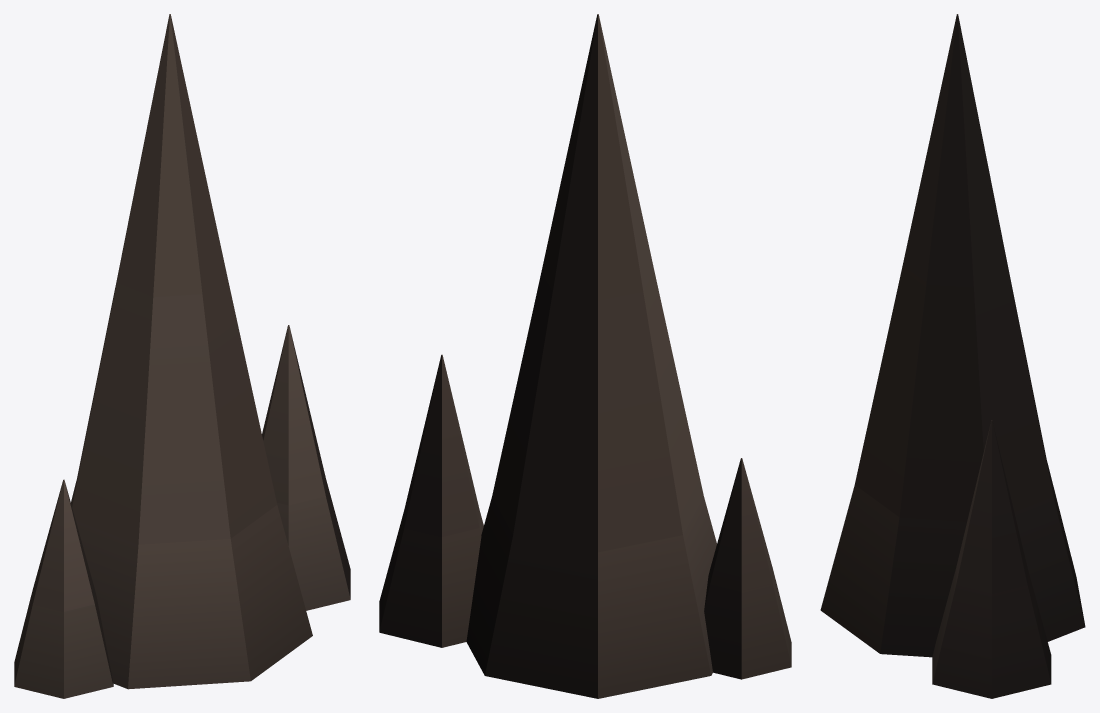
Rendered from stalagmite_a.glb.
3 views of the same model, side by side, from view 1: azimuth 30°, elevation 25°; view 2: azimuth 150°, elevation 25°; view 3: azimuth 270°, elevation 25° (orthographic). The views are drawn at different scales.
Parts seen in each view (by area): view 1: stalagmite_a; view 2: stalagmite_a; view 3: stalagmite_a.
Part boxes in pixels (<box>): stalagmite_a: <box>14,14,350,698</box>; stalagmite_a: <box>379,14,791,698</box>; stalagmite_a: <box>820,14,1085,698</box>.
Bounding box in the file's own units: 0.6 × 0.95 × 0.3857.
